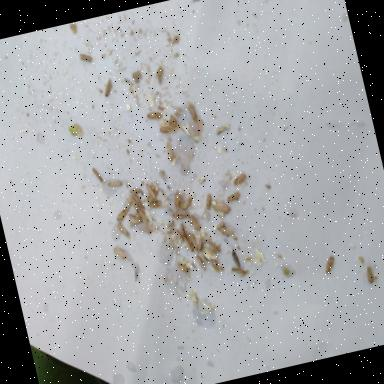pbw: (144, 186, 162, 204), (154, 64, 168, 86), (214, 200, 232, 216), (230, 248, 242, 271), (113, 244, 127, 263), (132, 191, 146, 210), (182, 234, 196, 253), (117, 222, 131, 241), (323, 255, 337, 274), (188, 230, 200, 252), (138, 207, 150, 229), (207, 237, 222, 254), (187, 103, 199, 124), (164, 140, 175, 162), (172, 190, 184, 210), (102, 78, 114, 98), (195, 253, 207, 272), (145, 181, 157, 200), (203, 192, 215, 211), (230, 265, 246, 279), (188, 213, 200, 231), (146, 110, 164, 122), (92, 166, 104, 184), (115, 208, 130, 222), (175, 260, 190, 274), (179, 197, 195, 210), (230, 172, 246, 185), (78, 50, 92, 64), (225, 190, 241, 202), (148, 198, 164, 210), (130, 196, 141, 213), (123, 196, 136, 210), (364, 266, 374, 284), (170, 114, 180, 132), (210, 256, 220, 274), (107, 178, 123, 189), (220, 225, 234, 237), (158, 124, 174, 134), (138, 225, 152, 236), (175, 228, 184, 244), (128, 216, 142, 226), (130, 186, 144, 196), (173, 211, 187, 221), (214, 220, 226, 231), (196, 237, 205, 251), (178, 222, 187, 236), (128, 212, 140, 221)
